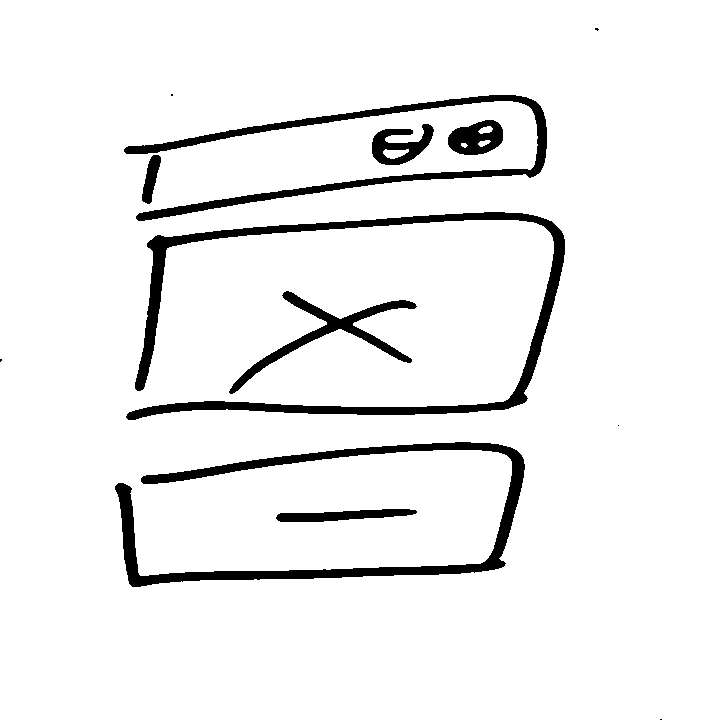button: (112, 439, 527, 592)
inline stepper bar: (122, 92, 552, 224)
picture: (120, 210, 570, 423)
